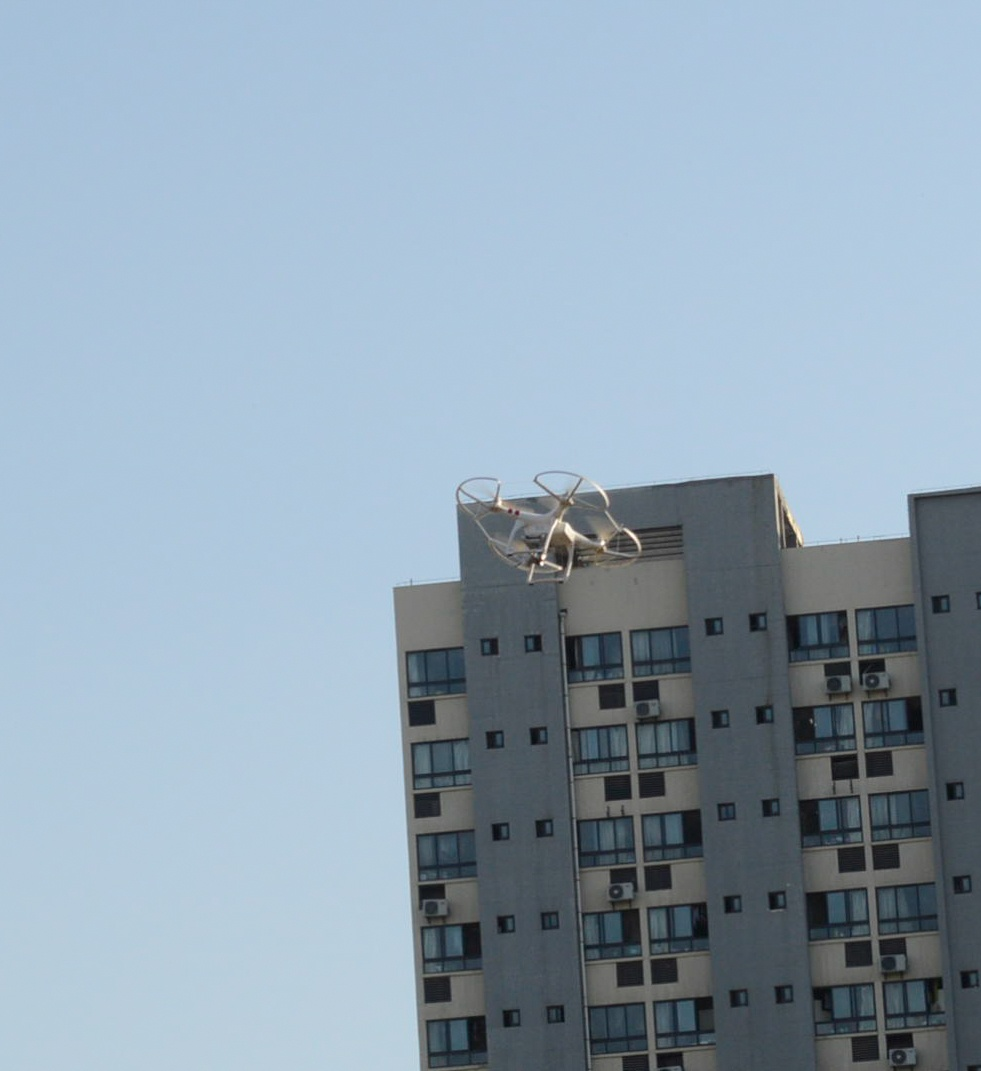DJI: (453, 468, 644, 586)
